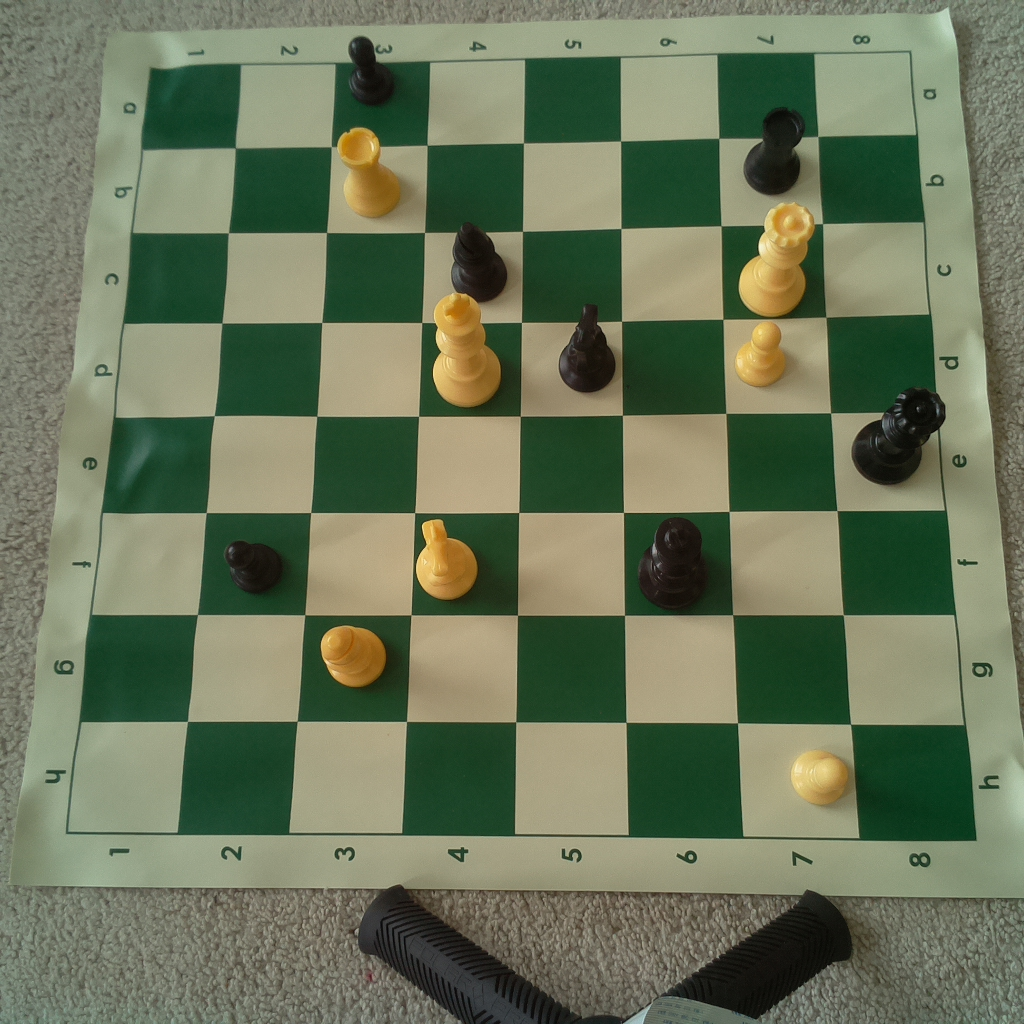black_bishop: (445, 218, 511, 300)
black_king: (636, 514, 712, 614)
black_knight: (550, 297, 619, 393)
black_pawn: (346, 34, 406, 109), (223, 532, 293, 596)
black_queen: (851, 380, 954, 493)
black_rook: (736, 100, 808, 197)
file_a: (141, 52, 918, 153)
file_b: (133, 135, 925, 234)
file_c: (121, 221, 931, 322)
file_d: (115, 315, 940, 418)
file_e: (103, 410, 947, 508)
file_f: (89, 510, 955, 617)
file_g: (81, 618, 962, 723)
file_h: (67, 721, 976, 840)
outline: (67, 52, 977, 840)
rank_1: (67, 64, 242, 833)
rank_2: (176, 61, 337, 836)
rank_3: (288, 62, 432, 834)
rank_4: (399, 58, 527, 834)
rank_5: (512, 57, 632, 835)
rank_6: (619, 56, 745, 834)
rank_7: (718, 53, 863, 839)
rank_8: (816, 52, 979, 839)
white_bishop: (316, 622, 390, 691)
white_king: (428, 291, 503, 408)
white_knight: (411, 512, 483, 601)
white_pawn: (732, 318, 796, 390), (789, 741, 855, 806)
white_queen: (736, 202, 819, 317)
white_rook: (332, 125, 403, 222)
